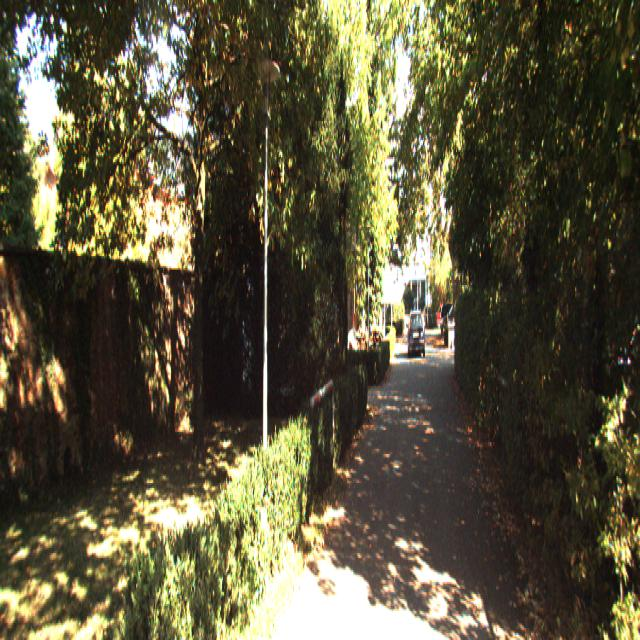Car: (408, 309, 426, 358)
